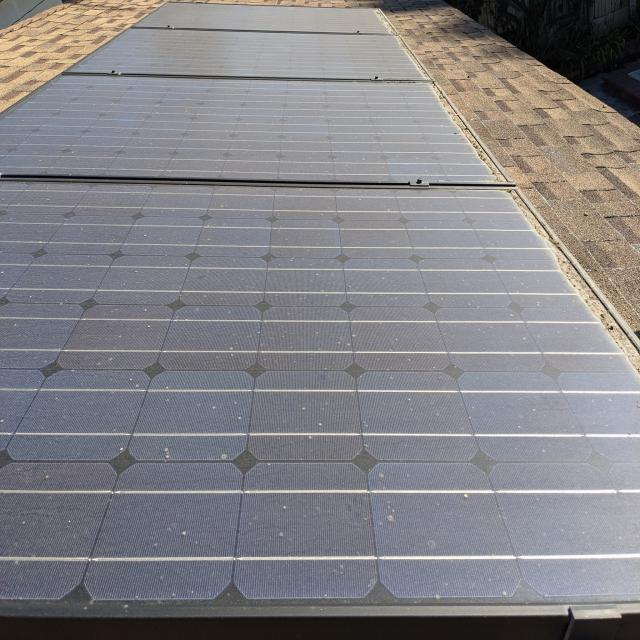dust-solar-panel: (0, 3, 640, 615)
